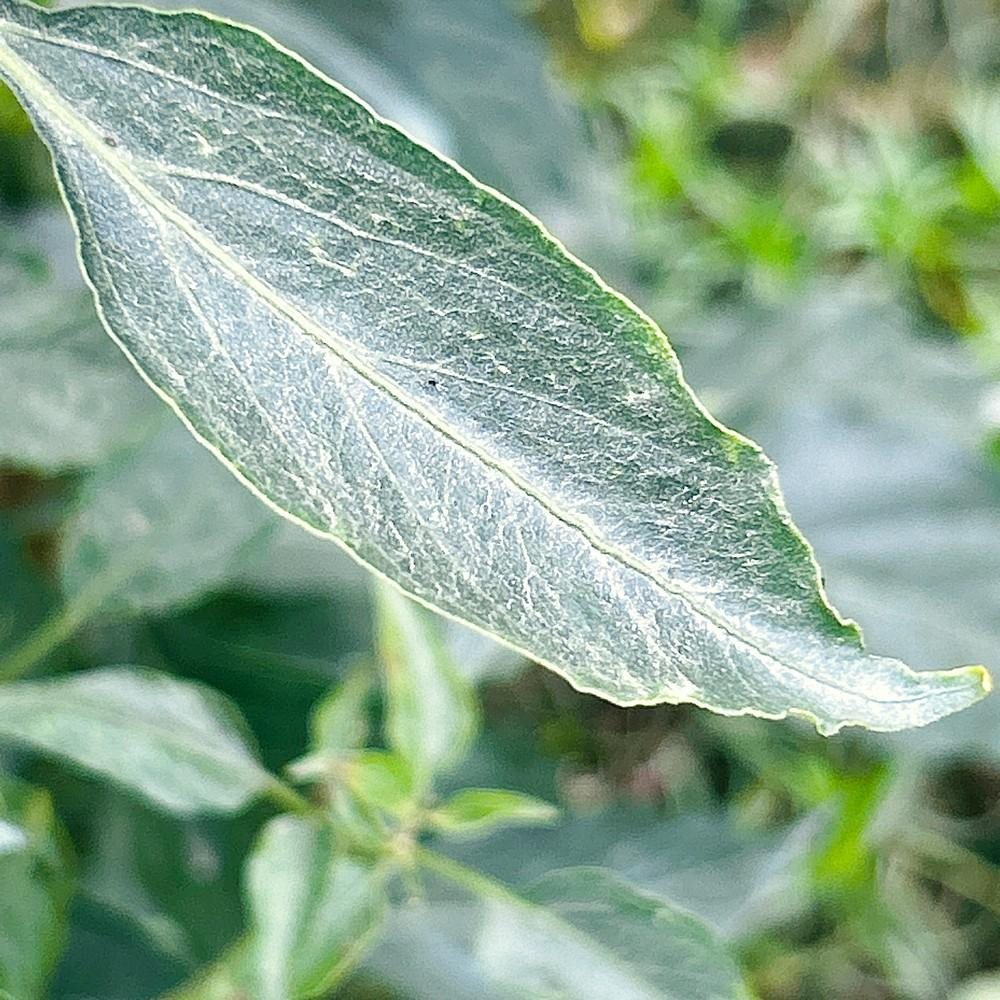Daun Cabai Sehat: (0, 0, 993, 738)
